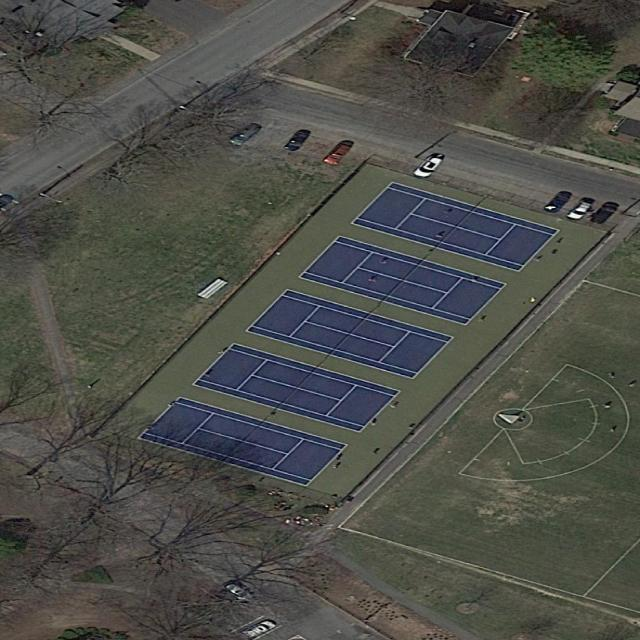small-vehicle: (225, 122, 266, 148), (408, 154, 447, 180), (319, 141, 356, 166), (279, 129, 316, 154), (218, 579, 258, 602), (539, 191, 576, 215), (238, 618, 280, 639), (586, 202, 623, 225), (564, 198, 600, 221)
